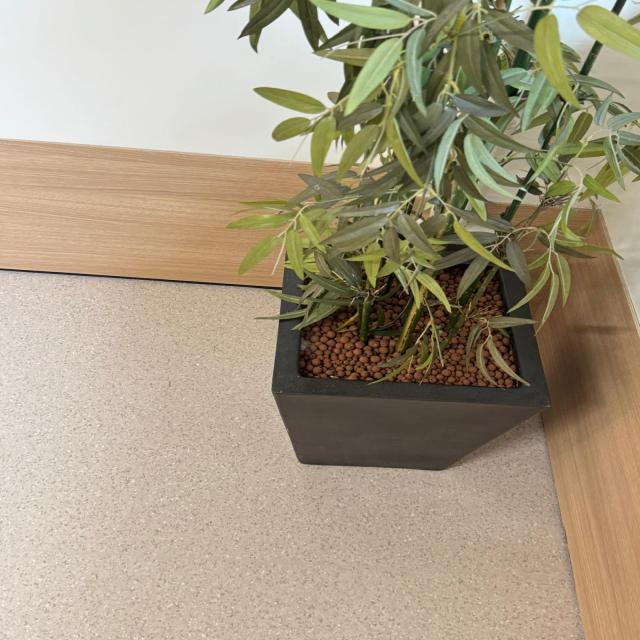Pot: (271, 232, 553, 470)
